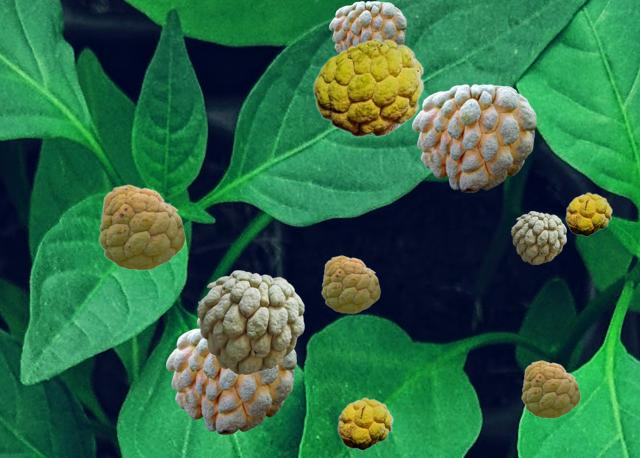atis: (166, 328, 295, 433), (412, 84, 535, 191), (197, 270, 303, 373), (312, 38, 423, 136), (98, 184, 184, 269), (329, 1, 405, 52), (521, 360, 579, 417), (321, 255, 379, 312), (337, 397, 392, 449), (511, 211, 565, 263), (565, 192, 611, 235)
